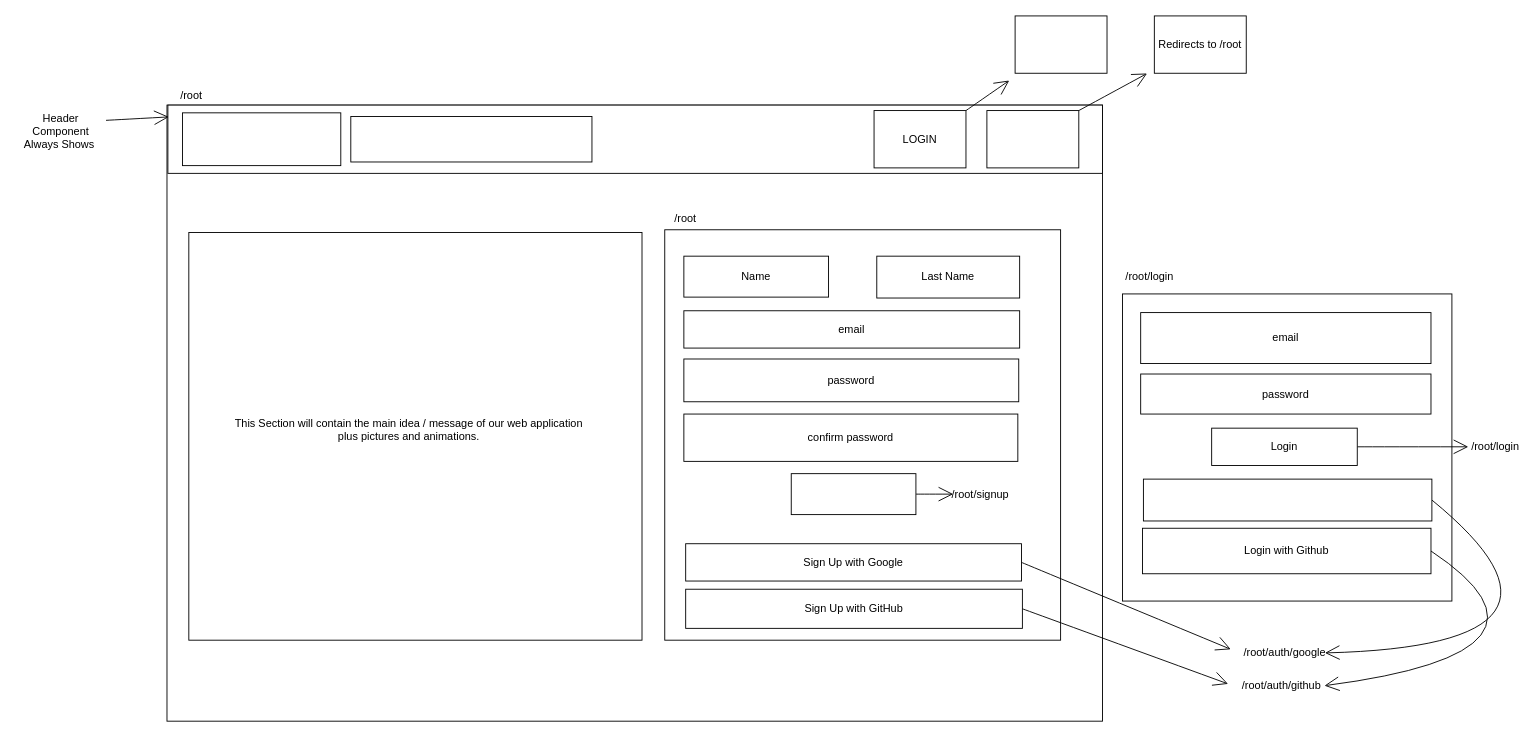
This 1538x737 diagram has some shape labels left out. Each missing label, with the centre of its shape:
"Login with Google" goes at point 1287,499.
"NAME AND LOGO HERE" goes at point 261,139.
"OPTIONAL STATICS COMPONENTS IN HERE" goes at point 471,139.
"Redirects to: /root/login" goes at point 1060,44.
"SIGN UP" goes at point 1032,139.
"Submit" goes at point 853,494.
